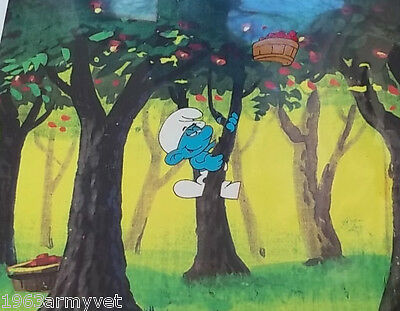smurf: (157, 106, 241, 201)
